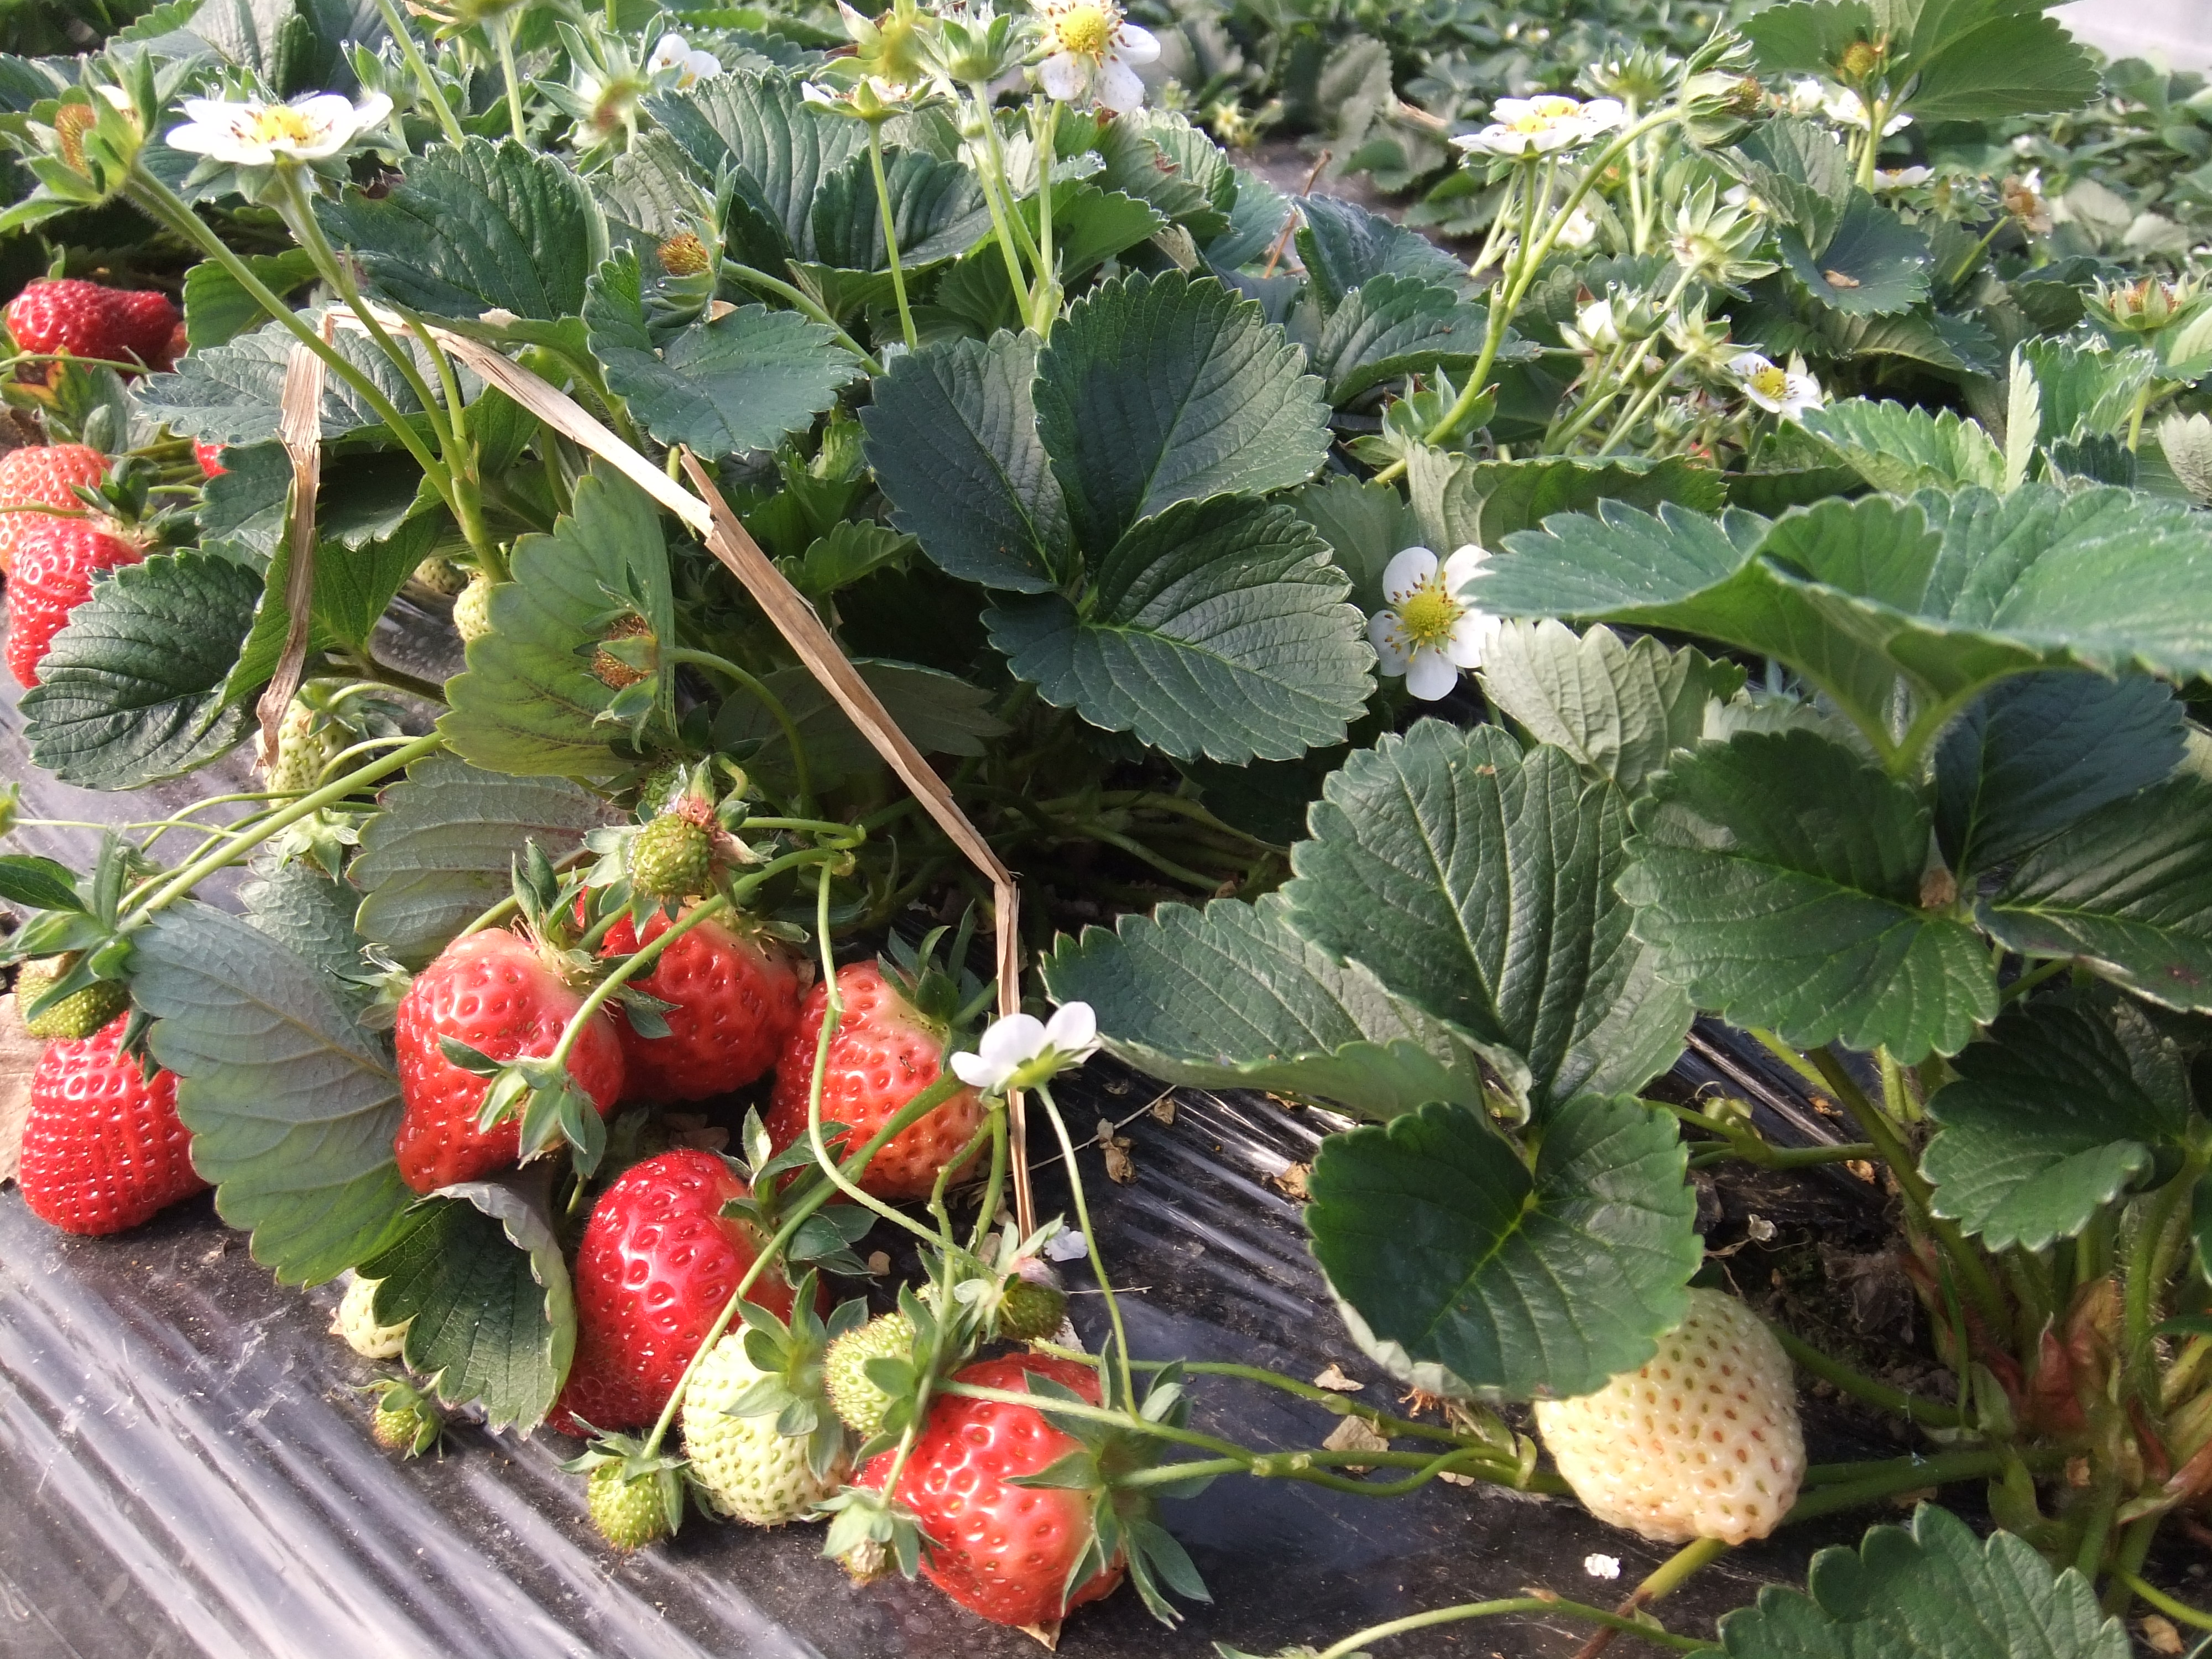StrawberryCone: (540, 826, 805, 1126), (536, 1150, 805, 1443)
StrawberryIrremovable: (1505, 1263, 1827, 1560), (850, 1340, 1127, 1628), (378, 924, 624, 1192), (773, 948, 988, 1208), (681, 1333, 866, 1535), (17, 906, 155, 1033), (827, 1310, 954, 1443), (564, 1438, 681, 1554), (625, 802, 730, 892)
StrawberryOther: (7, 971, 206, 1255), (3, 498, 157, 697), (3, 251, 185, 396), (3, 411, 145, 528)
StrawberryRemovable: (550, 1154, 801, 1438), (550, 833, 796, 1117), (16, 976, 197, 1249), (10, 509, 145, 697), (3, 258, 185, 390), (3, 418, 122, 525)
